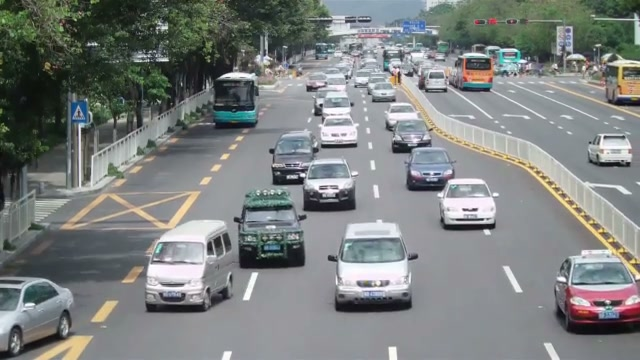bus: (213, 72, 260, 127), (452, 52, 495, 91), (603, 60, 640, 104), (485, 47, 521, 76)
car: (144, 218, 236, 312), (328, 221, 419, 312), (553, 250, 640, 334), (0, 275, 75, 356), (437, 178, 498, 230), (302, 157, 358, 210), (269, 131, 317, 185), (404, 147, 456, 191), (587, 132, 633, 167), (391, 119, 432, 153), (318, 114, 359, 148), (383, 102, 420, 131), (369, 82, 397, 102), (305, 73, 328, 91)
truck: (143, 218, 236, 313), (233, 187, 307, 268), (451, 53, 494, 91), (604, 60, 640, 105)
